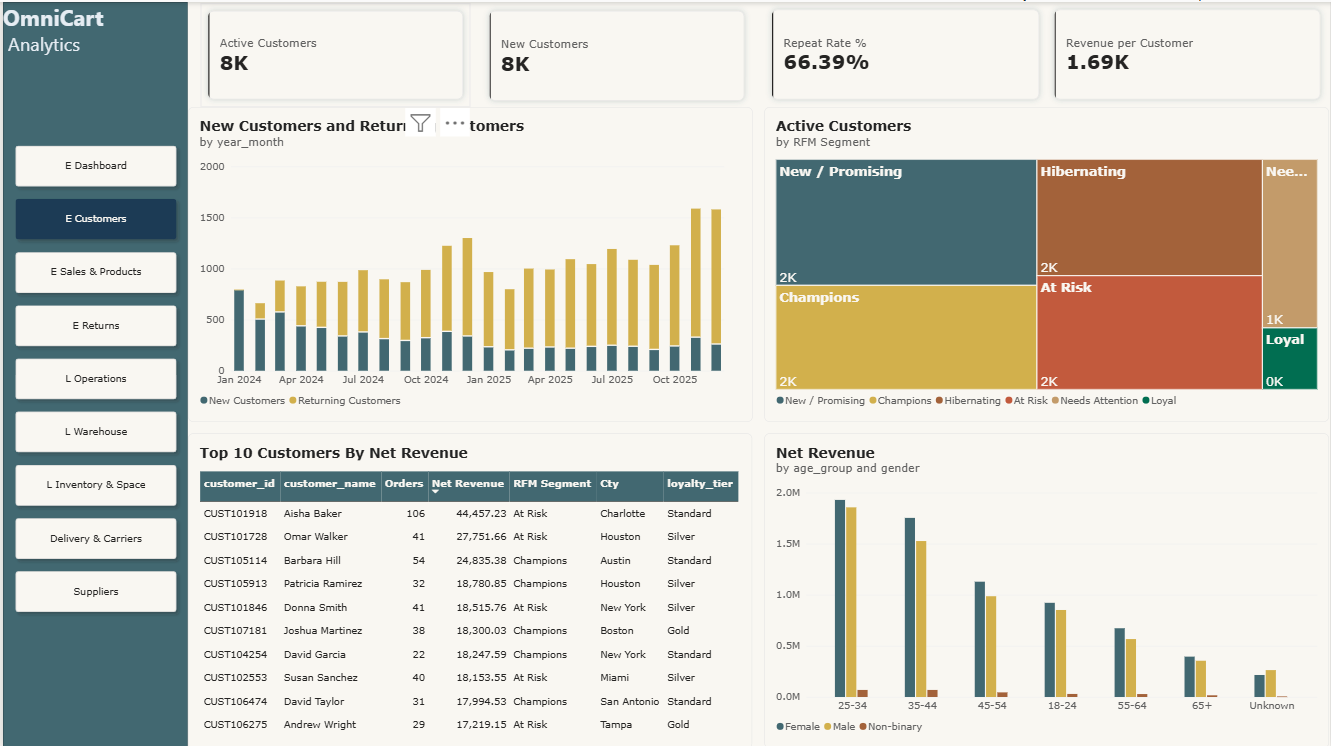

This screenshot's page, from the dashboard's own definition file:
{"tool":"powerbi","page":{"name":"E Customers","canvas":[1920,1080],"ordinal":1},"visuals":[{"type":"columnChart","fields":{"Category":["dim_date.year_month"],"Y":["_Measures.New Customers","_Measures.Returning Customers"]},"box":[267.8,152,818,456],"z":0},{"type":"group","id":"g1","title":"Group 1","box":[0,0,267.8,1080.6],"z":1000},{"type":"treemap","fields":{"Group":["dim_customer.RFM Segment"],"Values":["_Measures.Active Customers"]},"box":[1102.1,152,818,456],"z":2000},{"type":"pageNavigator","box":[9,199.1,251.5,698.5],"z":3000},{"type":"clusteredColumnChart","fields":{"Category":["dim_customer.age_group"],"Series":["dim_customer.gender"],"Y":["_Measures.Net Revenue"]},"box":[1102.1,624.3,818,456],"z":4000},{"type":"shape","box":[0,0,267.6,1080.6],"z":5000,"group":"g1"},{"type":"tableEx","title":"Top 10 Customers By Net Revenue","fields":{"Values":["dim_customer.customer_id","dim_customer.customer_name","_Measures.Orders","_Measures.Net Revenue","dim_customer.RFM Segment","dim_customer.city","dim_customer.loyalty_tier"]},"box":[267.6,623.7,817.2,456.9],"z":5000},{"type":"textbox","box":[0,0,267.8,115.8],"z":6000,"group":"g1"},{"type":"cardVisual","fields":{"Data":["_Measures.New Customers"]},"box":[693.7,2.1,391.1,152.3],"z":6000},{"type":"cardVisual","fields":{"Data":["_Measures.Repeat Rate %"]},"box":[1101.2,0,409.6,152.3],"z":7000},{"type":"cardVisual","fields":{"Data":["_Measures.Revenue per Customer"]},"box":[1510.8,0,407.5,152.3],"z":8000},{"type":"cardVisual","fields":{"Data":["_Measures.Active Customers"]},"box":[286.1,2.1,391.1,150.3],"z":9000}]}

Visuals, with their boxes on the page's 1920x1080 design canvas (x1, y1, x2, y2). These are canvas units, not pixel positions in the 1331x746 screenshot, which may show the page scaled, cropped or inside an application window:
columnChart - dim_date.year_month x _Measures.New Customers: box=[268, 152, 1086, 608]
"Group 1" group: box=[0, 0, 268, 1081]
treemap - dim_customer.RFM Segment x _Measures.Active Customers: box=[1102, 152, 1920, 608]
pageNavigator: box=[9, 199, 260, 898]
clusteredColumnChart - dim_customer.age_group x dim_customer.gender: box=[1102, 624, 1920, 1080]
shape: box=[0, 0, 268, 1081]
"Top 10 Customers By Net Revenue" tableEx: box=[268, 624, 1085, 1081]
textbox: box=[0, 0, 268, 116]
cardVisual - _Measures.New Customers: box=[694, 2, 1085, 154]
cardVisual - _Measures.Repeat Rate %: box=[1101, 0, 1511, 152]
cardVisual - _Measures.Revenue per Customer: box=[1511, 0, 1918, 152]
cardVisual - _Measures.Active Customers: box=[286, 2, 677, 152]
